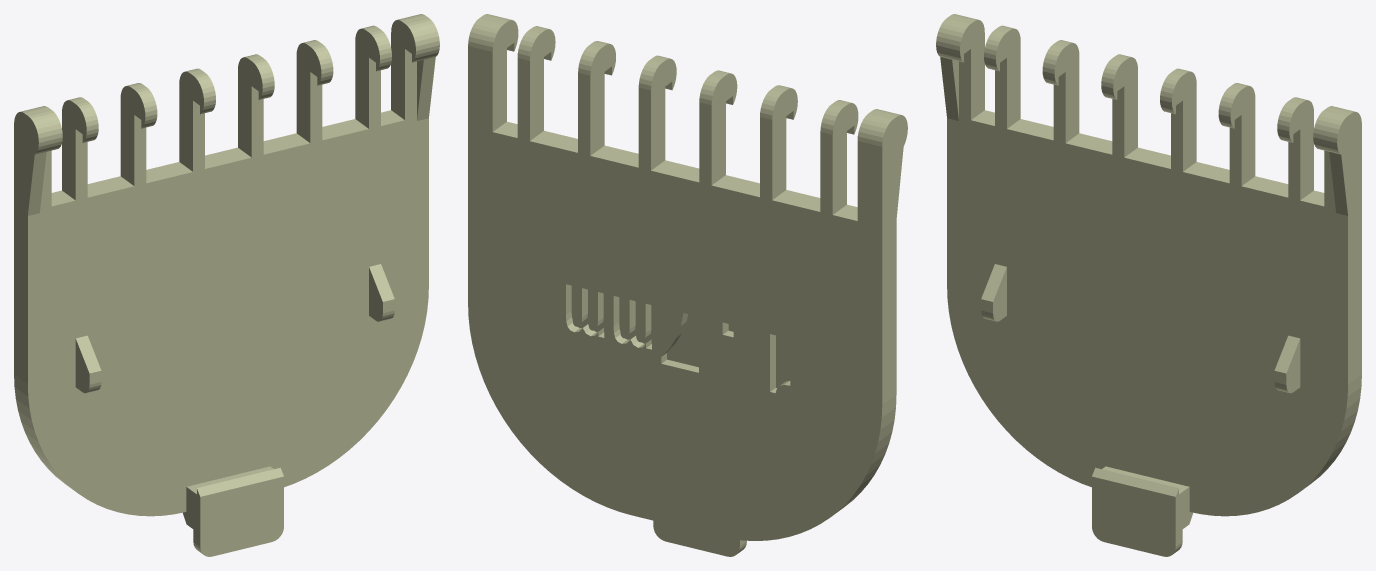
Rendered from razor.glb.
3 renders of one model, left to right at view 1: azimuth 30°, elevation 25°; view 2: azimuth 150°, elevation 25°; view 3: azimuth 330°, elevation 25°, orthographic. The views are drawn at different scales.
Size of the model in its own units: 33.5 by 37.7 by 4.
